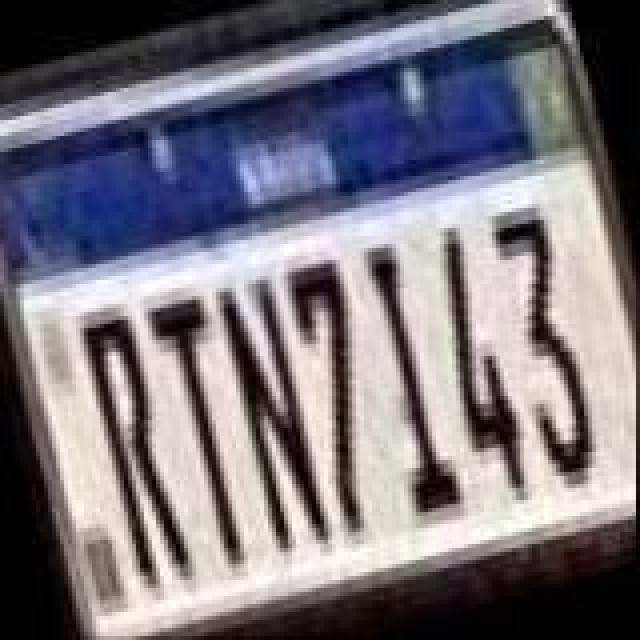3: (474, 188, 618, 492)
4: (414, 216, 542, 508)
7: (276, 256, 408, 540)
I: (344, 234, 468, 530)
N: (206, 262, 342, 566)
R: (68, 302, 200, 594)
T: (138, 284, 274, 576)
